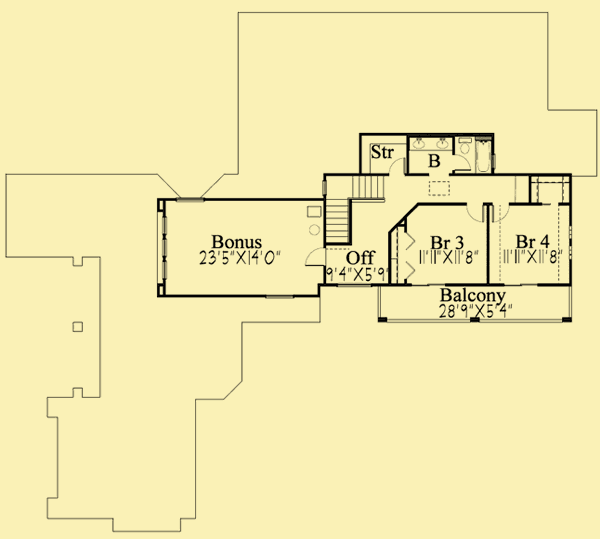door: (302, 247, 326, 270), (489, 202, 512, 224), (463, 203, 485, 224), (451, 153, 471, 174), (387, 156, 408, 175)
large_sink: (455, 137, 474, 156)
small_sink: (408, 136, 453, 153)
stairs: (320, 170, 386, 244)
tub: (475, 139, 494, 177)
window: (159, 215, 169, 283)
